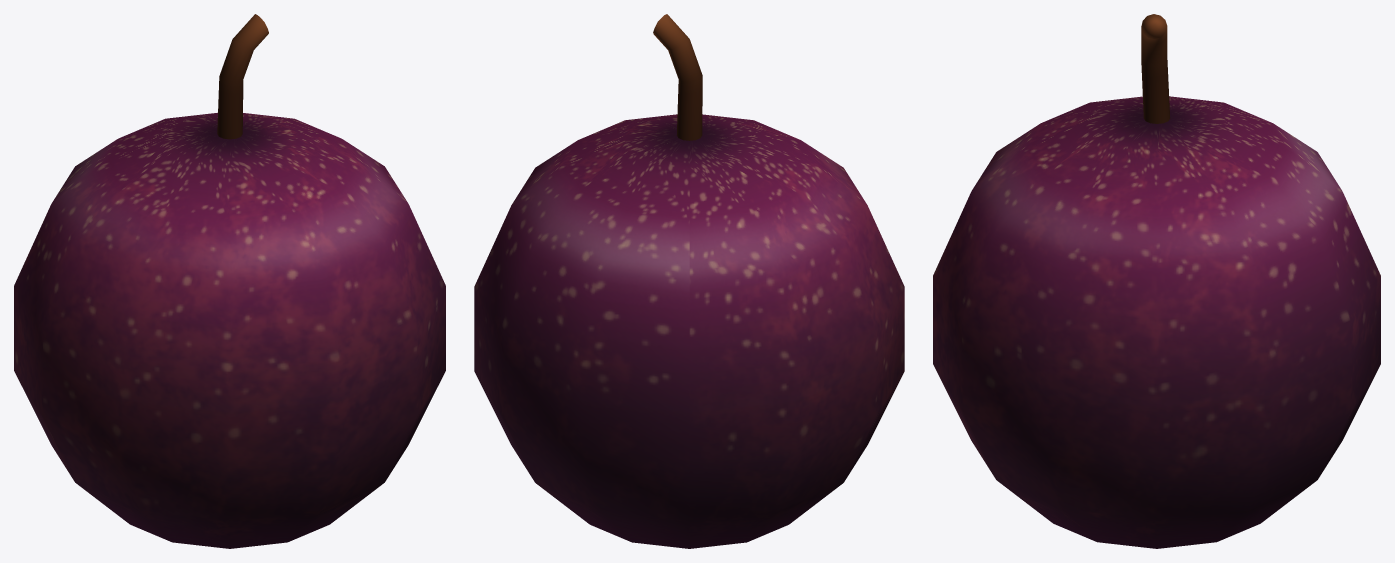
The model's file is PassionFruit_Purple.fbx.
3 views of the same model, side by side, from view 1: azimuth 30°, elevation 25°; view 2: azimuth 150°, elevation 25°; view 3: azimuth 270°, elevation 25° (orthographic). The views are drawn at different scales.
Parts seen in each view (by area): view 1: PassionFruit_Purple; view 2: PassionFruit_Purple; view 3: PassionFruit_Purple.
Part boxes in pixels (left/top/right/bottom): PassionFruit_Purple: left=14, top=14, right=445, bottom=548; PassionFruit_Purple: left=474, top=14, right=904, bottom=548; PassionFruit_Purple: left=933, top=14, right=1380, bottom=548.
Size of the model in its own units: 31.03 by 40.43 by 31.03.
Materials: 1 (1 with a texture image).
